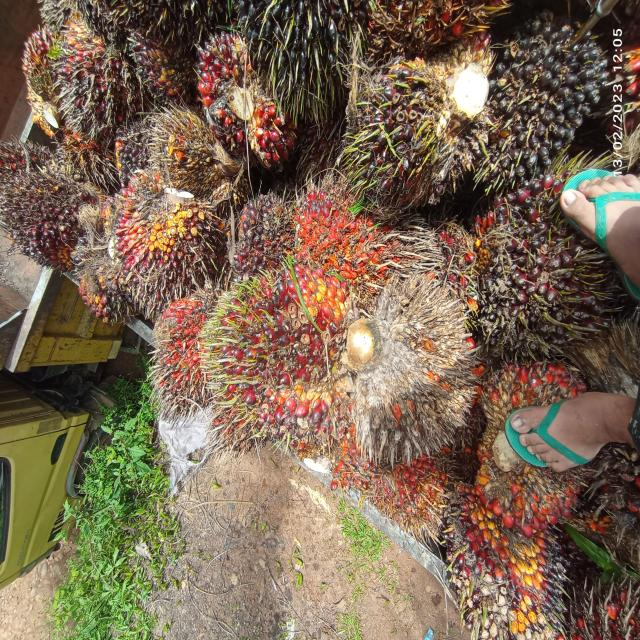fraksi 00: (468, 2, 640, 176), (478, 168, 628, 360), (438, 486, 619, 640), (344, 62, 485, 220), (27, 3, 156, 171), (96, 174, 209, 307), (4, 160, 106, 288), (229, 191, 297, 277)
fraksi 1: (189, 35, 298, 194)
fraksi 3: (189, 266, 373, 446)
fraksi 4: (294, 168, 391, 312), (146, 293, 219, 408)
